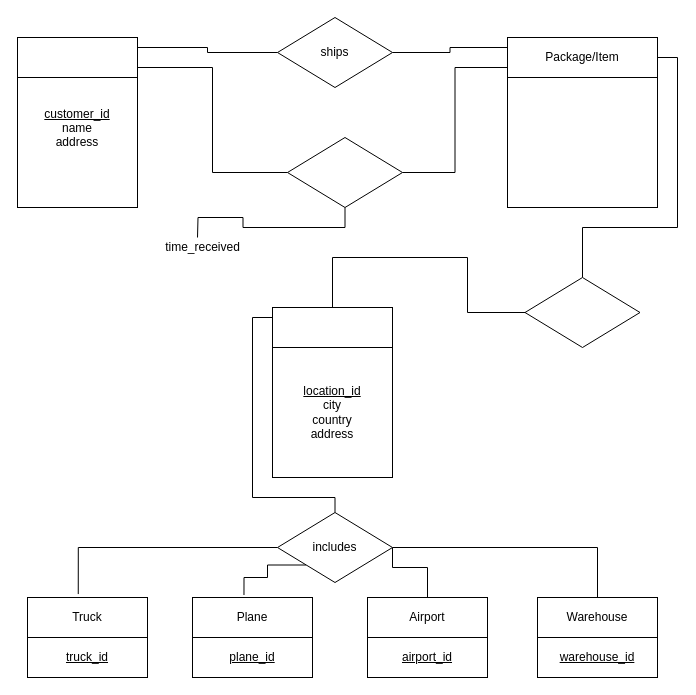
Image size: 696x695. Some labels were removed from this diagram. The shapes that lost their labels are listed below. From the top down, each one's box as (x1, y1, x2, y2) in pixels, then its label:
(16, 36, 138, 78): Customer
(506, 76, 658, 208): package_id tracking_number location_of_package package_weight
(286, 136, 402, 208): receives
(272, 306, 392, 348): Location
(524, 276, 640, 348): located
